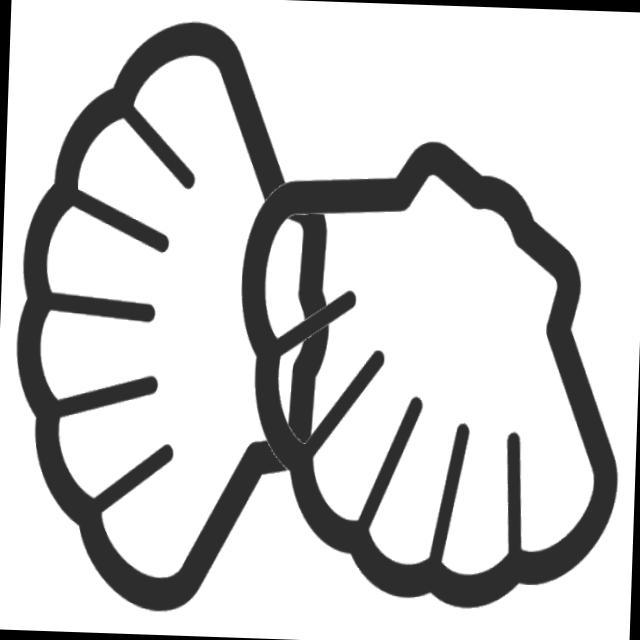shell: (220, 110, 636, 629), (1, 3, 346, 628)
